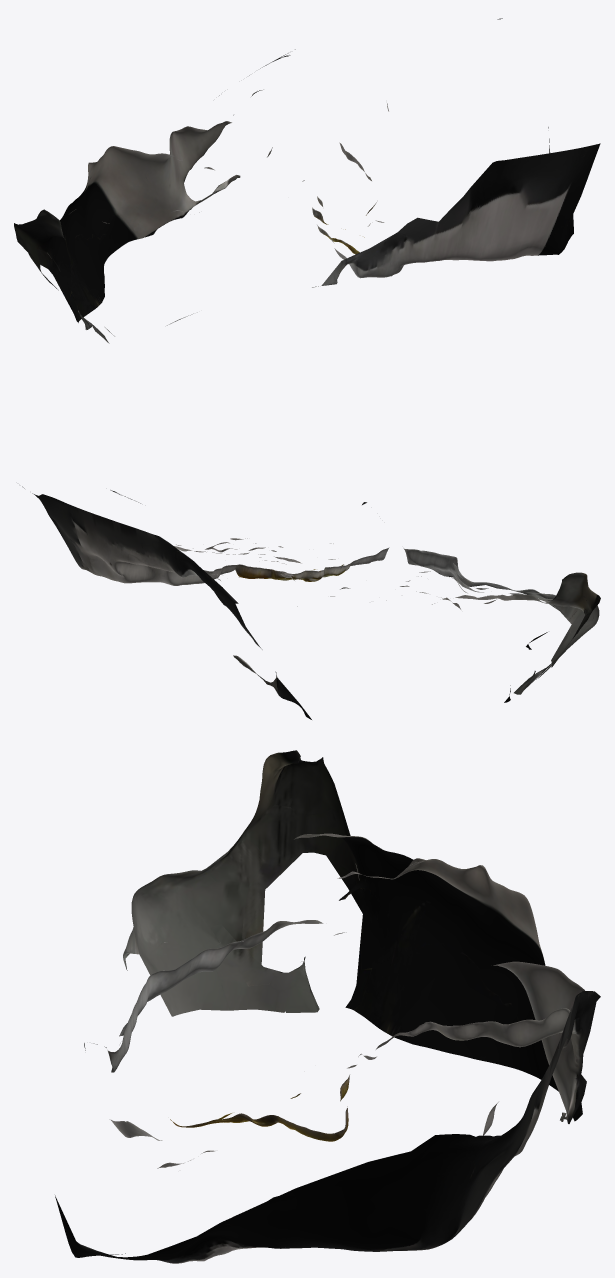
The picture shows the model from 3 angles, top to bottom: view 1: azimuth 30°, elevation 25°; view 2: azimuth 150°, elevation 25°; view 3: azimuth 270°, elevation 25°; orthographic projection. The views are drawn at different scales.
Bounding box in the file's own units: 1.01 × 0.2654 × 0.5758.
Materials: 1 (1 with a texture image).
